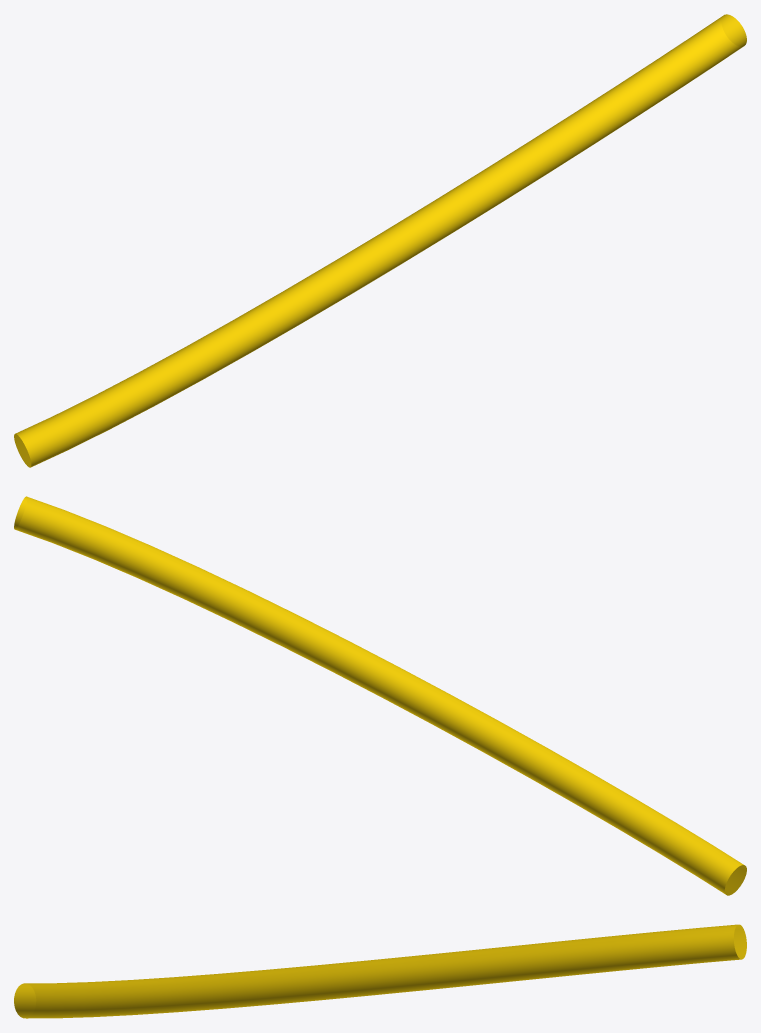
Rendered from Event_421115418_track_114.fbx.
The picture shows the model from 3 angles, top to bottom: view 1: azimuth 30°, elevation 25°; view 2: azimuth 150°, elevation 25°; view 3: azimuth 330°, elevation 25°; orthographic projection. The views are drawn at different scales.
Visible parts, largest first — view 1: Model; view 2: Model; view 3: Model.
Boxes of the visible parts, x1,y1,x2,y2 form: Model: (14, 14, 746, 467); Model: (14, 496, 746, 895); Model: (14, 924, 746, 1018).
Size of the model in its own units: 0.9218 by 0.3055 by 0.0999.
